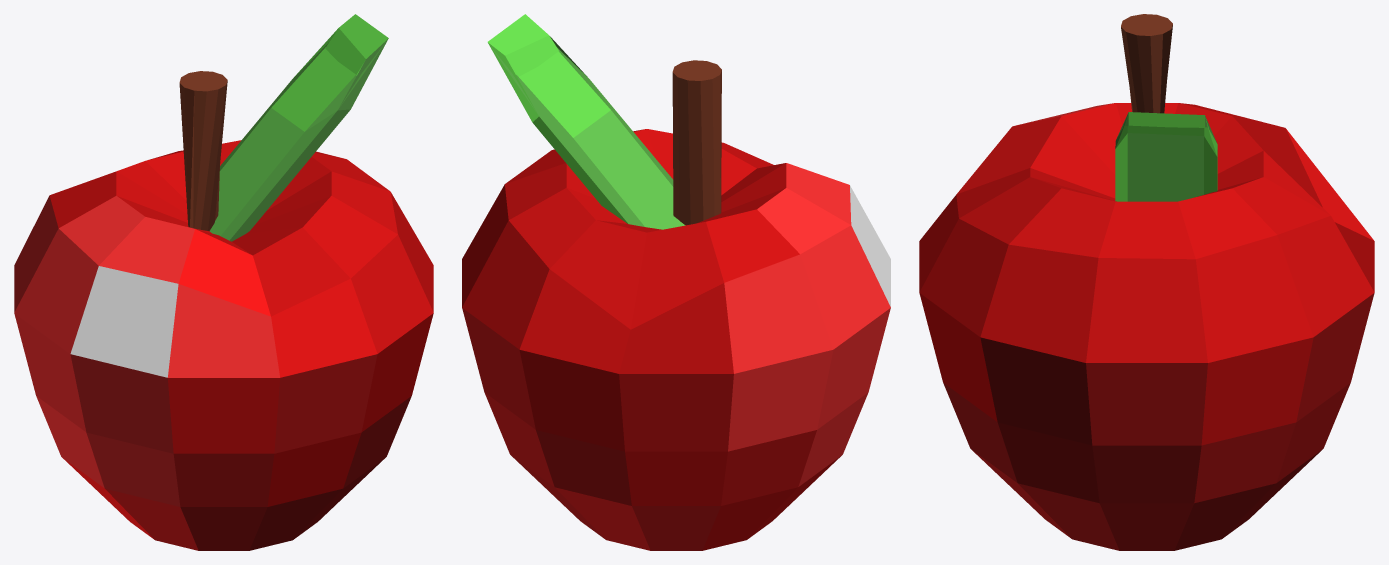
Rendered from Apple.obj.
3 renders of one model, left to right at view 1: azimuth 30°, elevation 25°; view 2: azimuth 150°, elevation 25°; view 3: azimuth 270°, elevation 25°, orthographic. The views are drawn at different scales.
Parts seen in each view (by area): view 1: sphere, beveled_cuboid, cylinder; view 2: sphere, beveled_cuboid, cylinder; view 3: sphere, beveled_cuboid, cylinder.
Boxes of the visible parts, x1,y1,x2,y2 form: sphere: (14, 140, 433, 550); beveled_cuboid: (209, 14, 388, 241); cylinder: (179, 71, 227, 231); sphere: (462, 129, 890, 550); beveled_cuboid: (487, 14, 685, 229); cylinder: (672, 60, 721, 225); sphere: (919, 103, 1374, 550); beveled_cuboid: (1115, 112, 1217, 201); cylinder: (1121, 14, 1172, 113).
Bounding box in the file's own units: 1.12 × 1.36 × 1.12.
3 materials, 3 textured.
